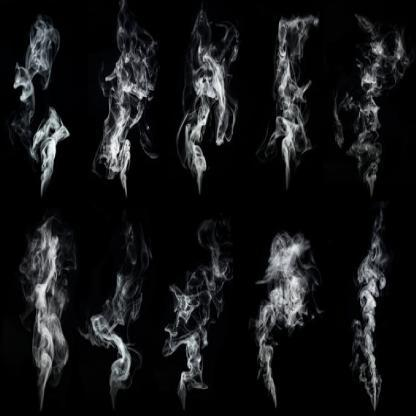smoke: (11, 15, 71, 196), (95, 22, 156, 197), (164, 242, 226, 407), (256, 233, 310, 404), (180, 25, 233, 191), (22, 220, 70, 400), (272, 13, 310, 188), (92, 272, 142, 398), (348, 33, 385, 193), (351, 243, 387, 406)
